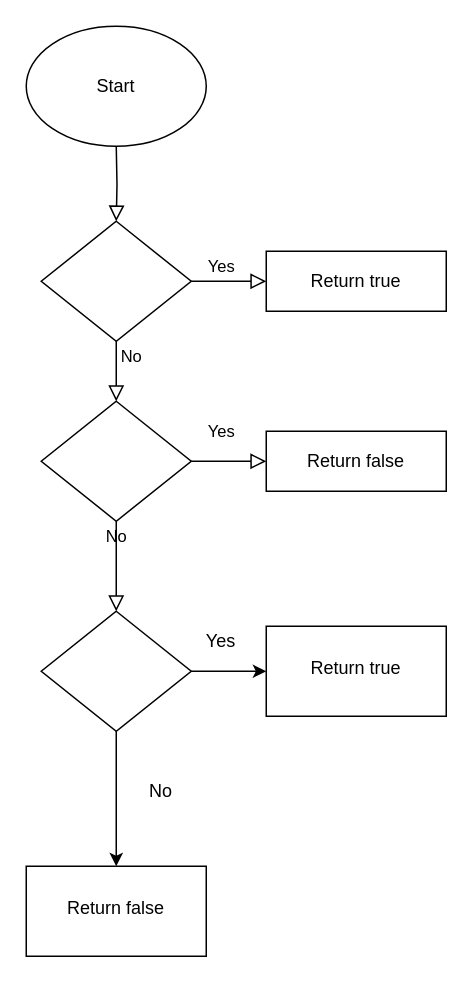
Image size: 473x983. Some labels were removed from this diagram. Here are the shapes that lost their labels. From the top down, the centre of each, then its label:
At point 115,280: "n % 400 == 0?".
At point 115,460: "n % 100 == 0?".
At point 115,670: "n % 4 == 0?".
